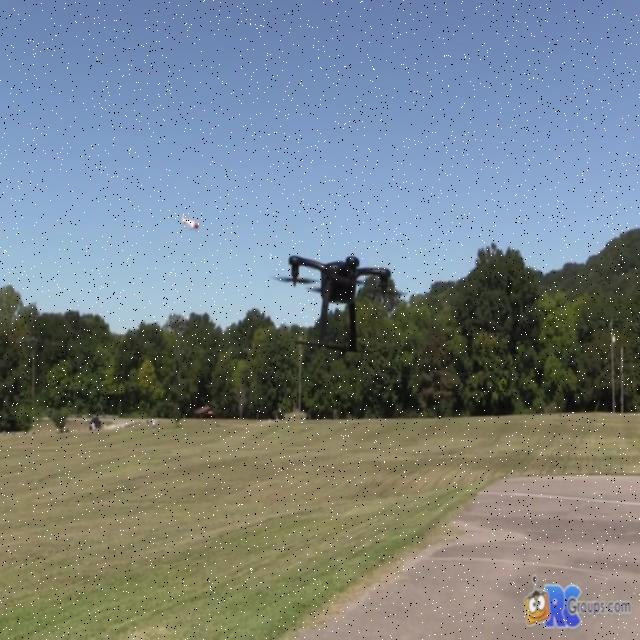UAV: (270, 256, 408, 354)
